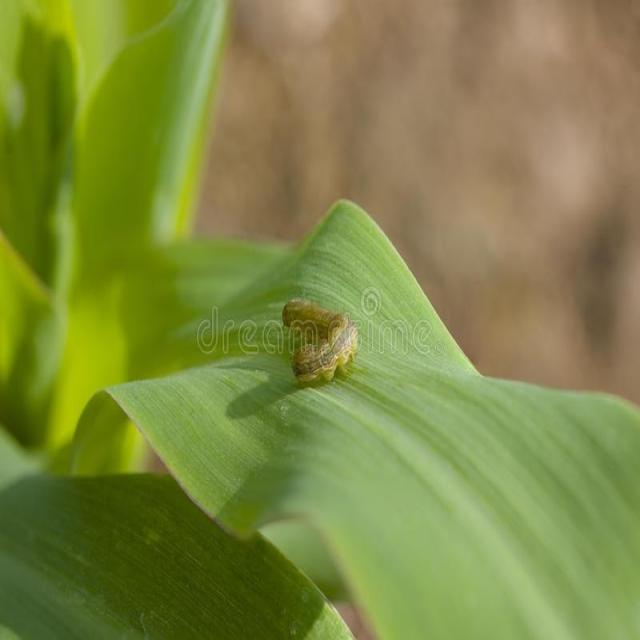army worm: (282, 299, 362, 384)
